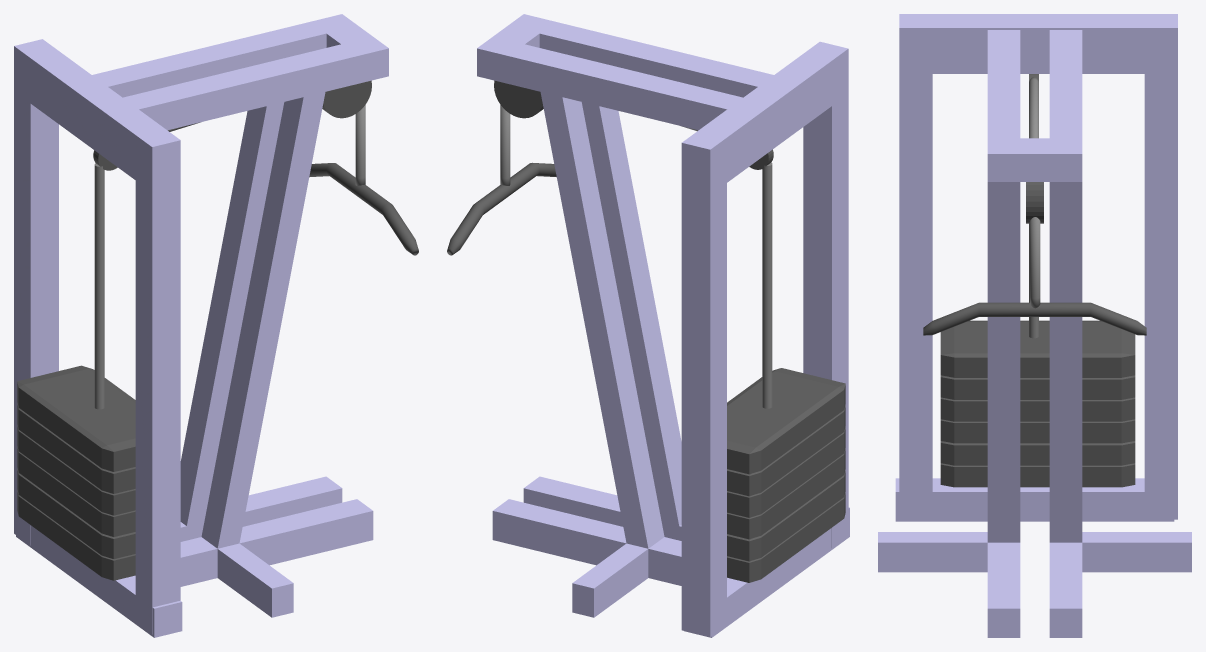
The model's file is CabelTower.fbx.
3 views of the same model, side by side, from view 1: azimuth 30°, elevation 25°; view 2: azimuth 150°, elevation 25°; view 3: azimuth 270°, elevation 25° (orthographic).
Visible parts, largest first — view 1: Cube.008, Cube, Cube.001, Cube.007, Cube.003, Cube.006, Cylinder.003, Cube.005, Cube.002, Cube.004, Cylinder.002, Cylinder (+1 smaller); view 2: Cube.008, Cube.001, Cube, Cube.007, Cube.003, Cube.006, Cylinder.003, Cube.005, Cube.002, Cube.004, Cylinder.002, Cylinder (+1 smaller); view 3: Cube.008, Cube, Cube.001, Cube.007, Cylinder.002, Cube.003, Cube.002, Cube.004, Cube.006, Cube.005, Cylinder.005, Cylinder (+1 smaller).
Part boxes in pixels (x1,y1,x2,y2): Cube.008: (16,14,388,637); Cube: (27,51,180,634); Cube.001: (14,39,58,545); Cube.007: (17,365,135,471); Cube.003: (17,468,135,558); Cube.006: (17,403,135,493); Cylinder.003: (94,163,104,409); Cube.005: (17,425,135,515); Cube.002: (17,490,135,580); Cube.004: (17,446,135,536); Cylinder.002: (309,163,418,255); Cylinder: (322,80,371,118); Cube.008: (477,14,849,637); Cube.001: (681,130,726,637); Cube: (698,41,848,547); Cube.007: (727,368,845,474); Cube.003: (727,471,845,561); Cube.006: (727,405,845,496); Cylinder.003: (762,162,772,408); Cube.005: (727,427,845,517); Cube.002: (727,492,845,582); Cube.004: (727,449,845,539); Cylinder.002: (447,162,556,255); Cylinder: (494,80,543,118); Cube.008: (878,30,1191,637); Cube: (899,14,1149,519); Cube.001: (1144,14,1177,519); Cube.007: (940,320,1135,377); Cylinder.002: (923,302,1146,335); Cube.003: (940,441,1135,465); Cube.002: (940,463,1135,487); Cube.004: (940,419,1135,443); Cube.006: (940,375,1135,399); Cube.005: (940,397,1135,421); Cylinder.005: (1030,217,1040,308); Cylinder: (1026,182,1043,223).
Size of the model in its own units: 519 by 794 by 457.
